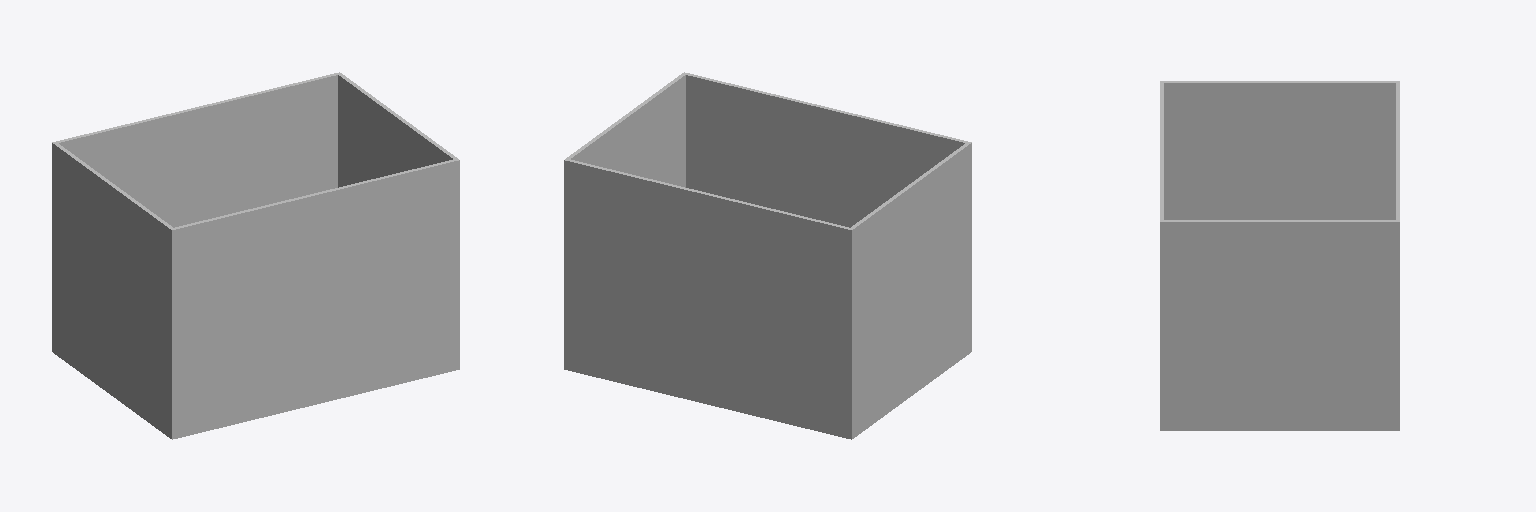
File: pizza-boxes-freezer.obj
3 renders of one model, left to right at view 1: azimuth 30°, elevation 25°; view 2: azimuth 150°, elevation 25°; view 3: azimuth 270°, elevation 25°, orthographic.
Parts seen in each view (by area): view 1: Object.4, Object.5, Object.2, Object.3; view 2: Object.5, Object.4, Object.2, Object.3; view 3: Object.3, Object.2, Object.4, Object.5.
Part boxes in pixels (left/top/right/bottom): Object.4: left=170, top=159, right=459, bottom=439; Object.5: left=52, top=72, right=341, bottom=352; Object.2: left=54, top=143, right=172, bottom=437; Object.3: left=338, top=74, right=457, bottom=187; Object.5: left=564, top=159, right=853, bottom=439; Object.4: left=682, top=72, right=971, bottom=352; Object.2: left=851, top=143, right=969, bottom=437; Object.3: left=566, top=74, right=685, bottom=187; Object.3: left=1164, top=220, right=1395, bottom=430; Object.2: left=1164, top=81, right=1395, bottom=219; Object.4: left=1160, top=81, right=1163, bottom=430; Object.5: left=1396, top=81, right=1399, bottom=430.
Size of the model in its own units: 1440 by 1000 by 1040.